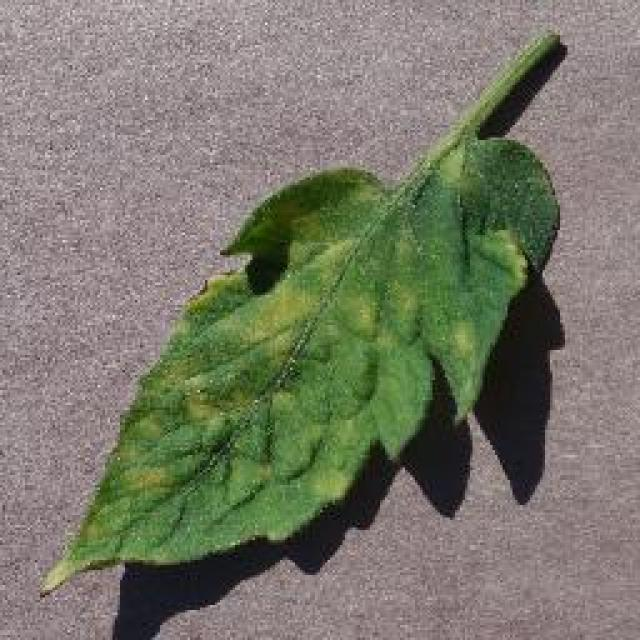Tomato___Leaf_Mold: (42, 32, 558, 590)
